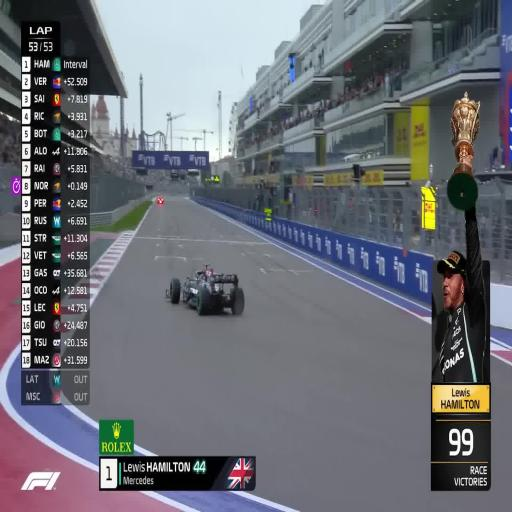f1_car: (166, 263, 244, 314)
